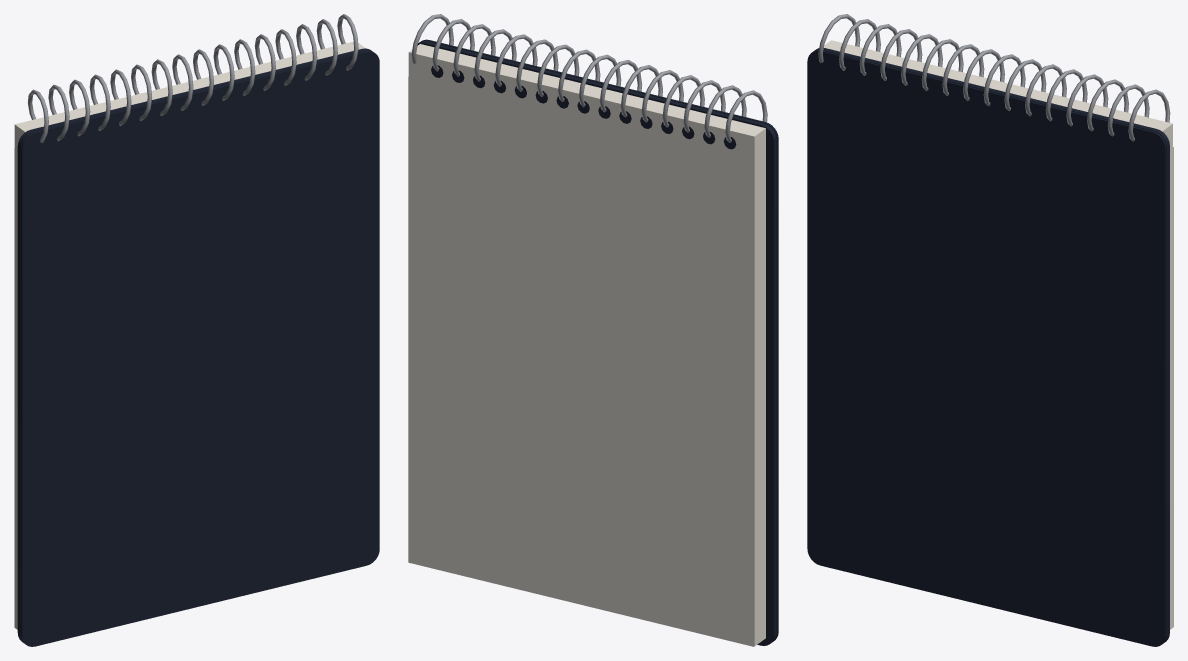
Rendered from Notebook.fbx.
3 views of the same model, side by side, from view 1: azimuth 30°, elevation 25°; view 2: azimuth 150°, elevation 25°; view 3: azimuth 330°, elevation 25° (orthographic).
Parts seen in each view (by area): view 1: Notebook; view 2: Page, Notebook; view 3: Notebook.
Boxes of the visible parts, left/top/right/bottom form: Notebook: left=14, top=14, right=379, bottom=646; Page: left=408, top=77, right=753, bottom=646; Notebook: left=408, top=14, right=778, bottom=646; Notebook: left=807, top=14, right=1172, bottom=646.
Bounding box in the file's own units: 0.11 × 0.1606 × 0.015.
